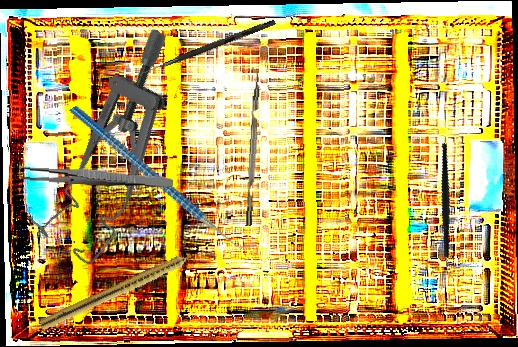Chopper: (68, 62, 259, 293), (400, 142, 497, 282), (237, 66, 263, 227)
Dressing Forceps: (20, 165, 174, 189)
Handpiece: (38, 244, 207, 335)
Hook Surgical: (137, 17, 276, 80)
Speculum: (9, 26, 232, 270)
